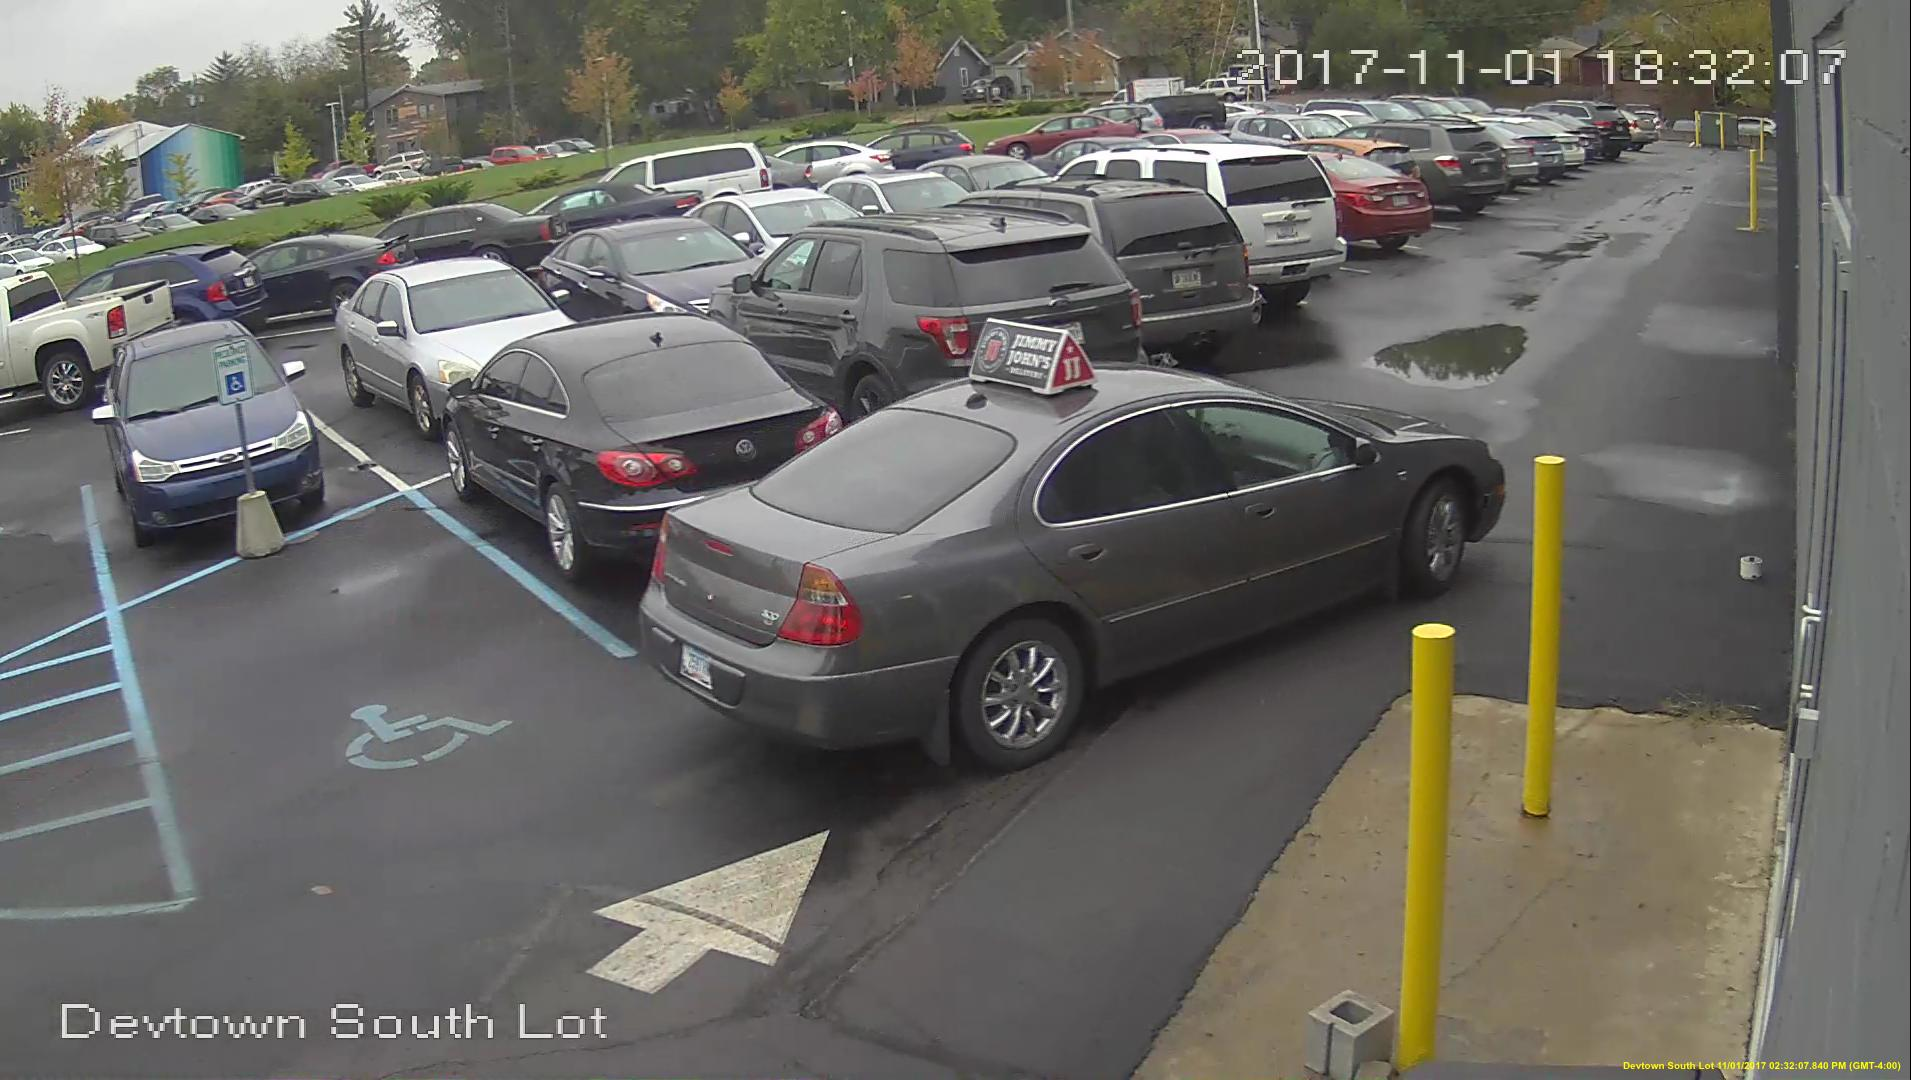jimmy_johns: (963, 318, 1101, 402)
